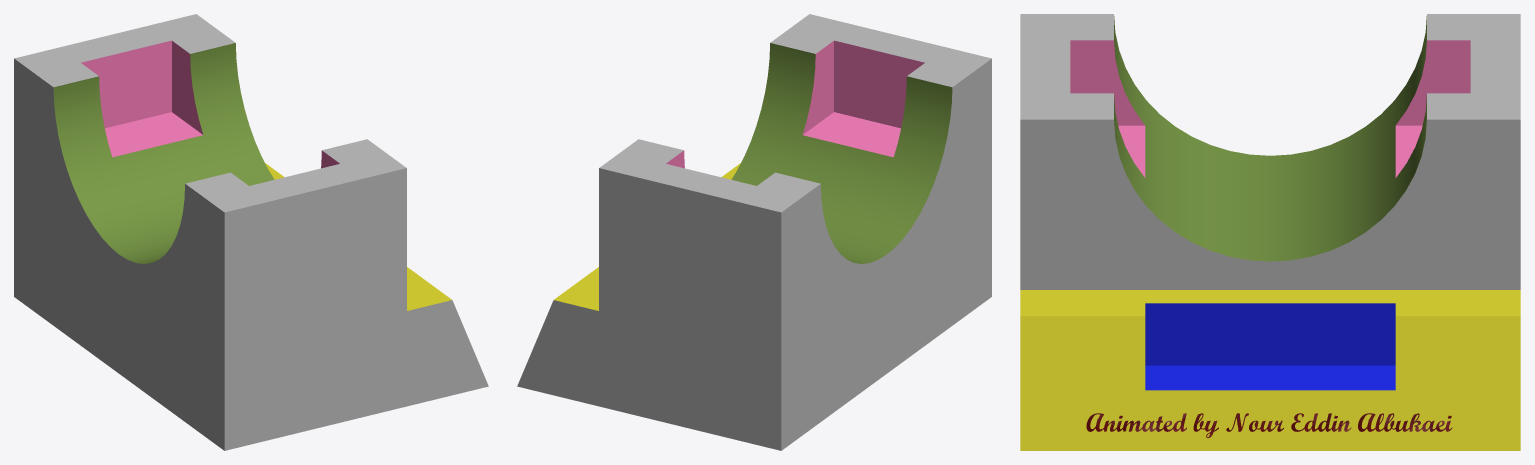
3 views of the same model, side by side, from view 1: azimuth 30°, elevation 25°; view 2: azimuth 150°, elevation 25°; view 3: azimuth 270°, elevation 25° (orthographic). The views are drawn at different scales.
Parts seen in each view (by area): view 1: Solid4; view 2: Solid4; view 3: Solid4.
Part boxes in pixels (x1,y1,x2,y2): Solid4: [14, 14, 488, 450]; Solid4: [517, 14, 991, 450]; Solid4: [1020, 14, 1520, 450].
Bounding box in the file's own units: 0.058 × 0.05 × 0.08.
6 materials, 1 textured.
